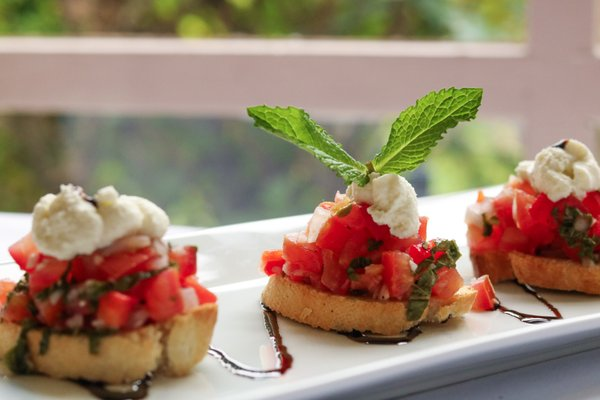soup: (0, 183, 220, 391), (259, 172, 481, 342), (465, 136, 600, 294)
